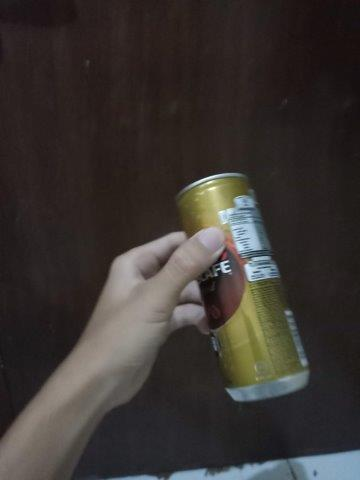kaleng: (176, 172, 310, 403)
